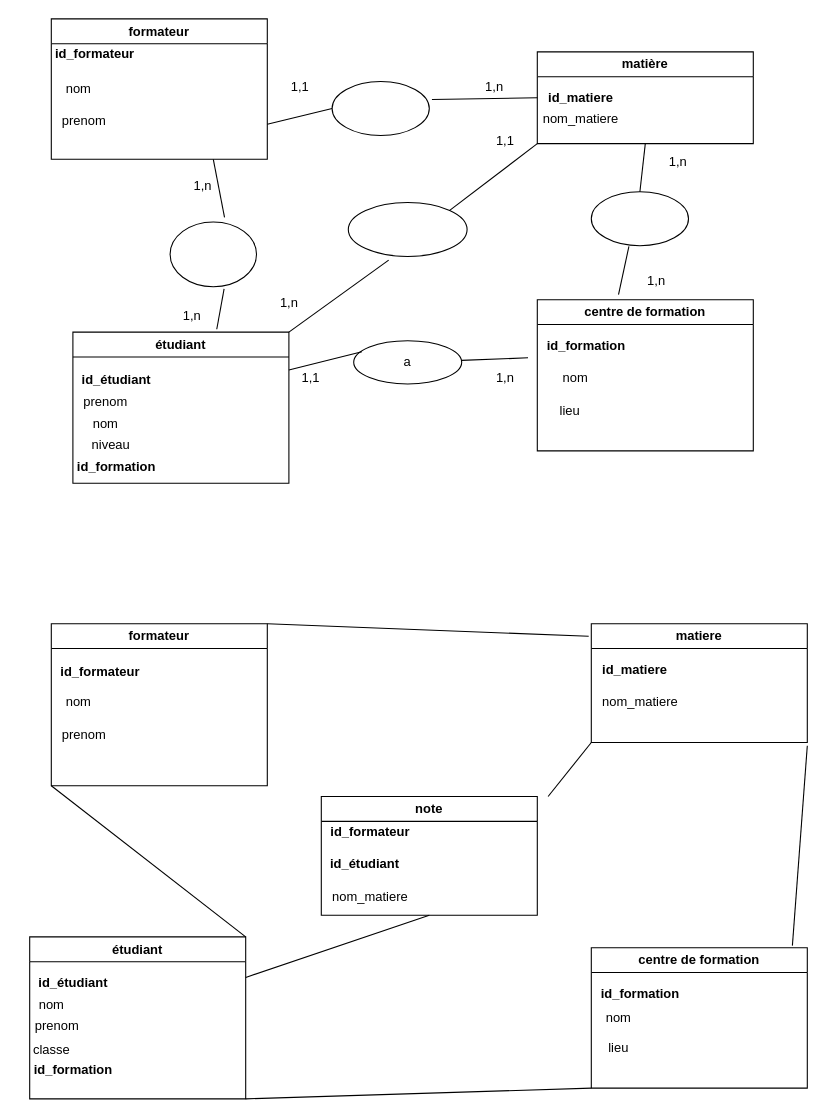
Image size: 827x1119. Some labels were removed from this diagram. Here are the shapes that lost their labels. From the top down, the centre of each, then its label:
At (380,108): "enseigne".
At (407,228): "noté".
At (639,218): "étudié".
At (212,254): "détient".
